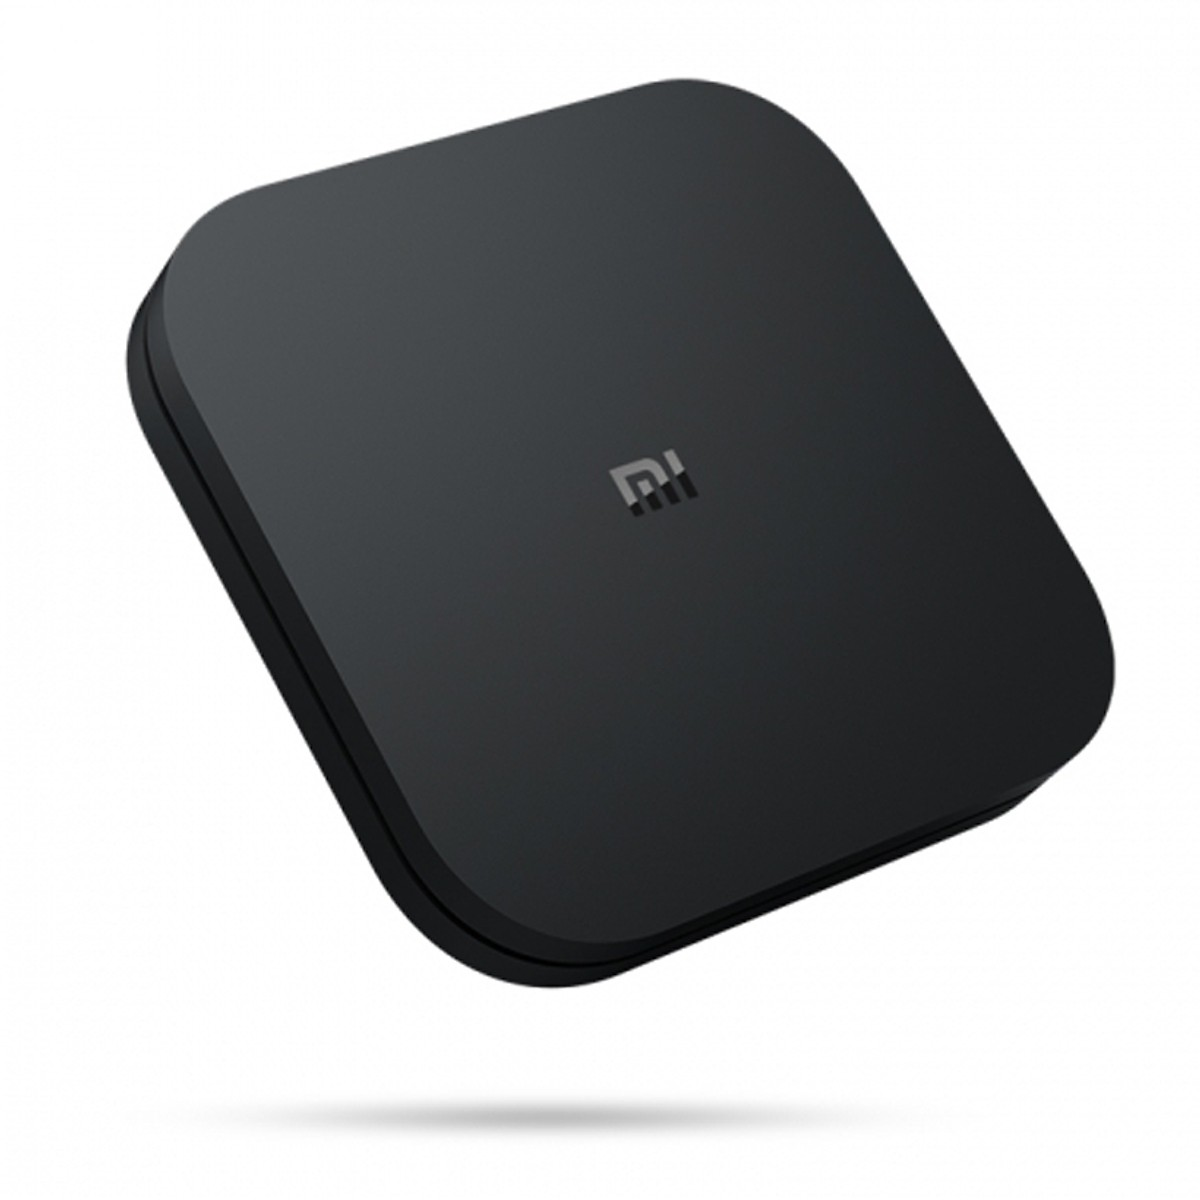ZeroShop111: (182, 116, 977, 362)
